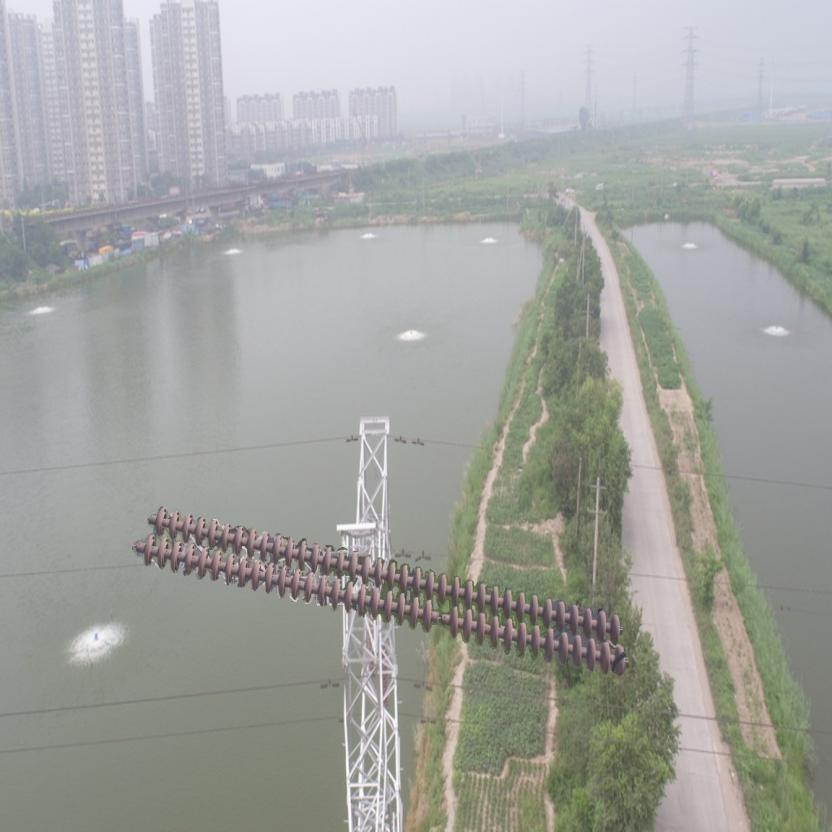defect: (418, 589, 462, 634)
